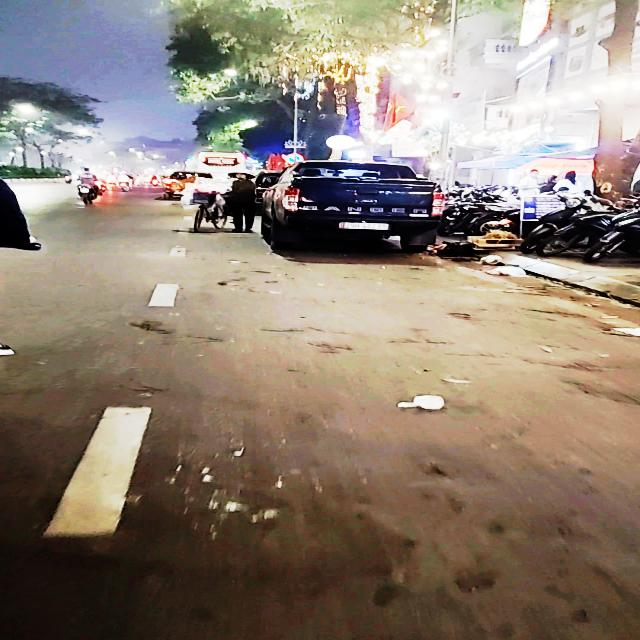license_plate: (340, 223, 390, 231)
